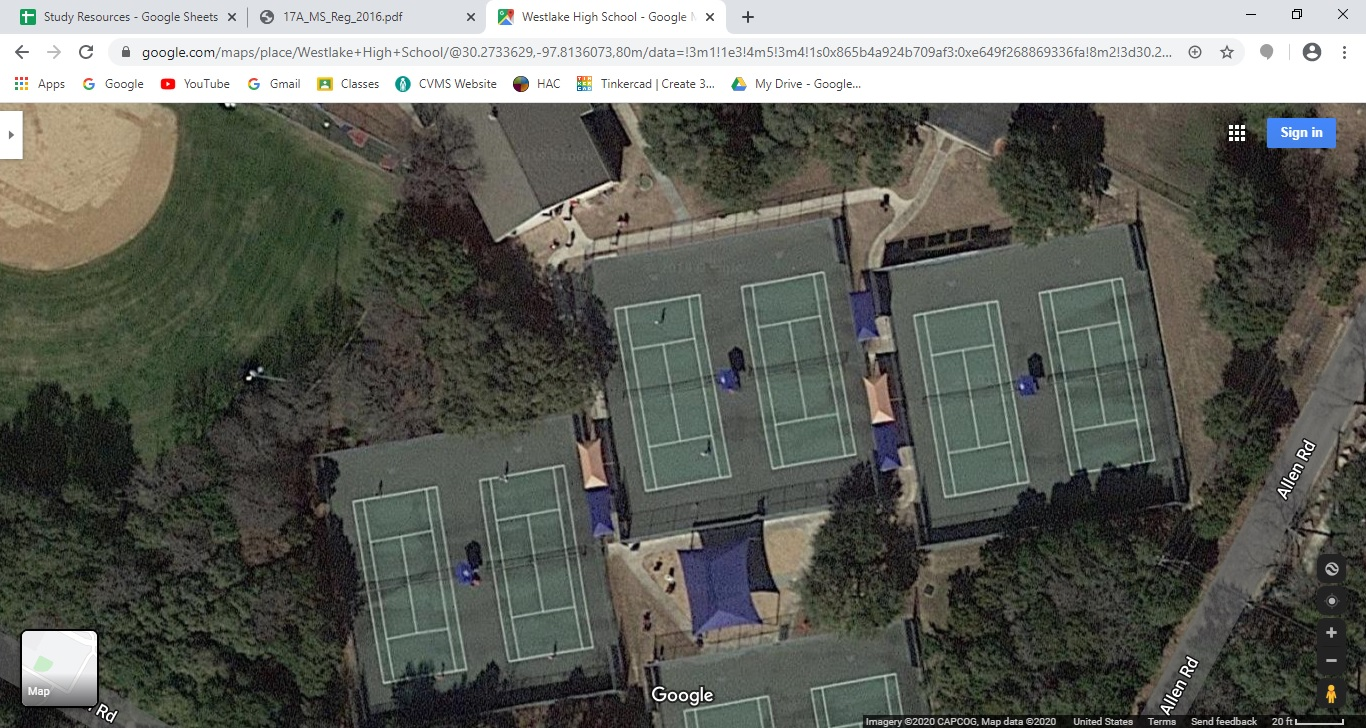tennis: (900, 291, 1057, 535), (601, 298, 727, 500), (344, 490, 465, 685)
